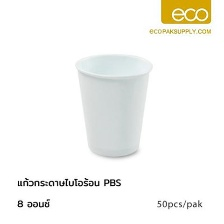paper_cup: (70, 48, 156, 160)
